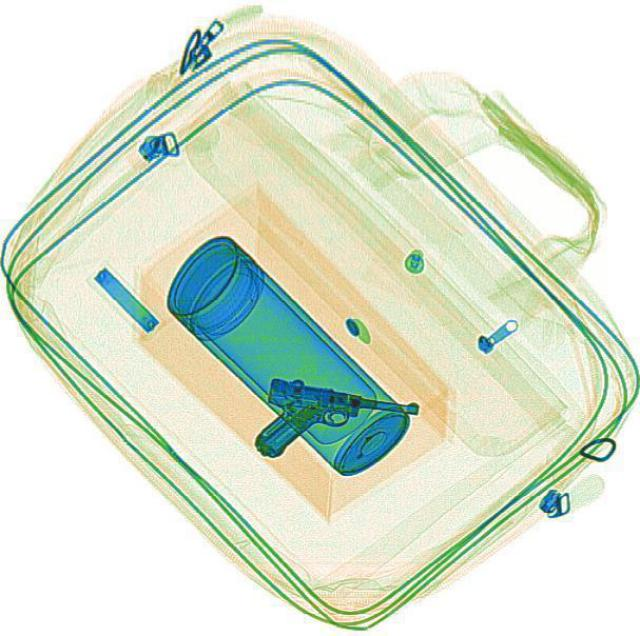Gun: (252, 371, 418, 478)
